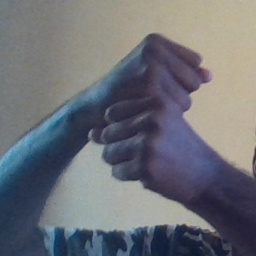G: (98, 24, 214, 186)
